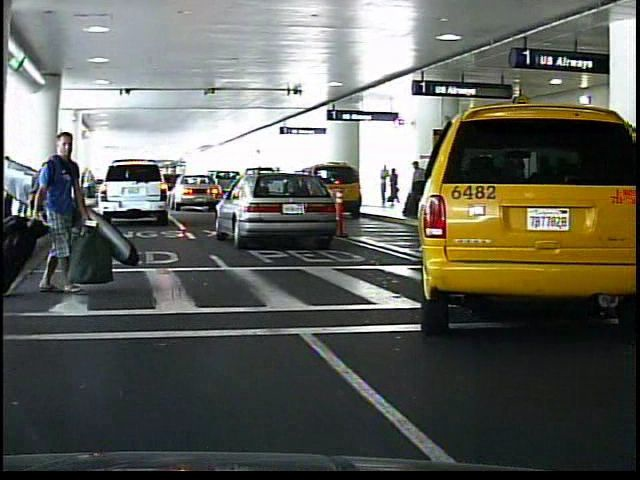person: (35, 123, 95, 307), (377, 166, 389, 208), (409, 160, 425, 187), (388, 166, 398, 207)
